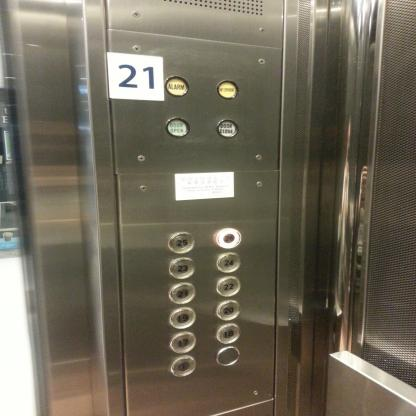1: (170, 355, 196, 377)
17: (170, 332, 196, 354)
18: (216, 323, 240, 344)
19: (170, 306, 196, 328)
20: (216, 300, 240, 320)
21: (168, 282, 196, 304)
22: (215, 275, 240, 297)
23: (168, 256, 196, 280)
24: (216, 252, 242, 273)
25: (167, 231, 194, 254)
26: (215, 228, 241, 248)
empty: (216, 346, 240, 366)
text: (164, 75, 190, 97), (164, 117, 191, 137), (216, 79, 239, 100), (216, 118, 239, 139)
